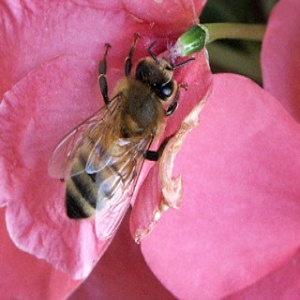bee: (60, 34, 196, 239)
